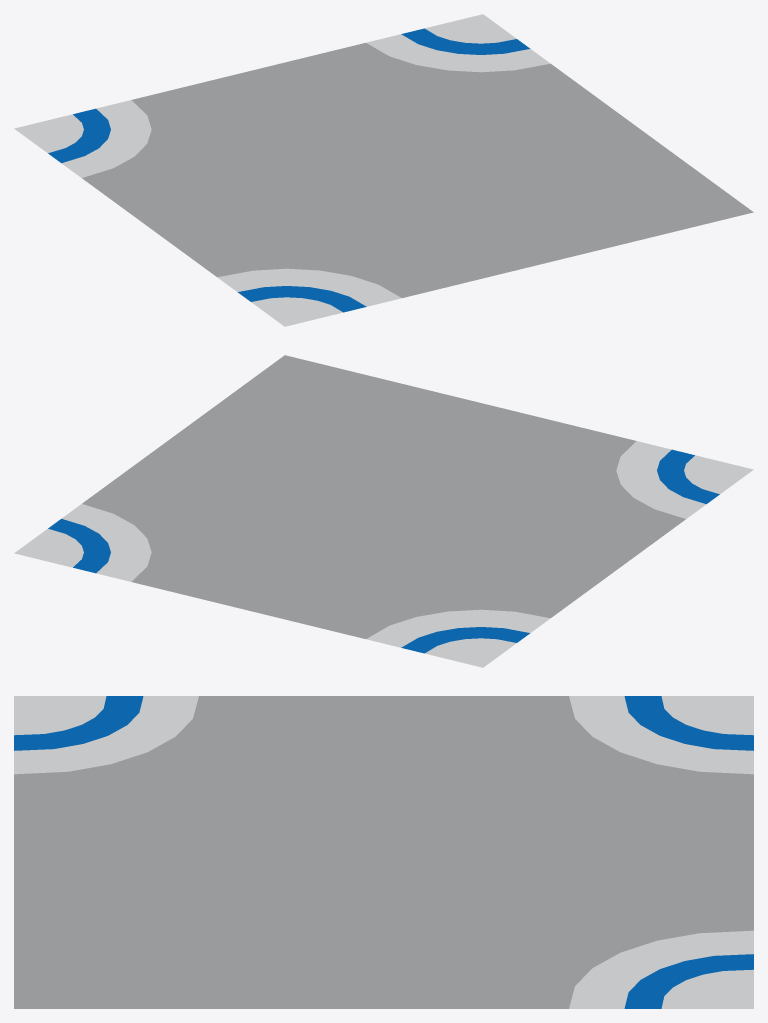
Rendered from Ceiling_type_A_017.fbx.
3 renders of one model, top to bottom at view 1: azimuth 30°, elevation 25°; view 2: azimuth 150°, elevation 25°; view 3: azimuth 270°, elevation 25°, orthographic. The views are drawn at different scales.
Parts seen in each view (by area): view 1: Ceiling_type_A_017; view 2: Ceiling_type_A_017; view 3: Ceiling_type_A_017.
Part boxes in pixels (x1,y1,x2,y2): Ceiling_type_A_017: [14, 14, 753, 326]; Ceiling_type_A_017: [14, 355, 753, 667]; Ceiling_type_A_017: [14, 696, 753, 1008].
Bounding box in the file's own units: 400 × 400 × 5.71.
